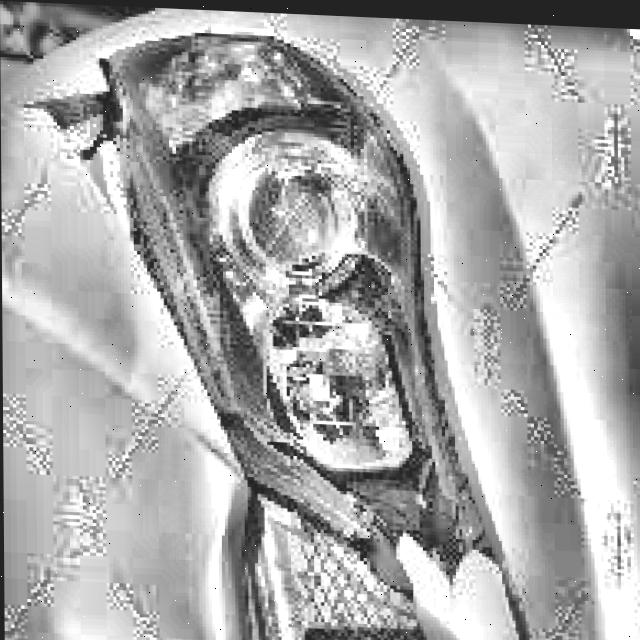head_lamp: (108, 38, 389, 261), (223, 232, 426, 495)
